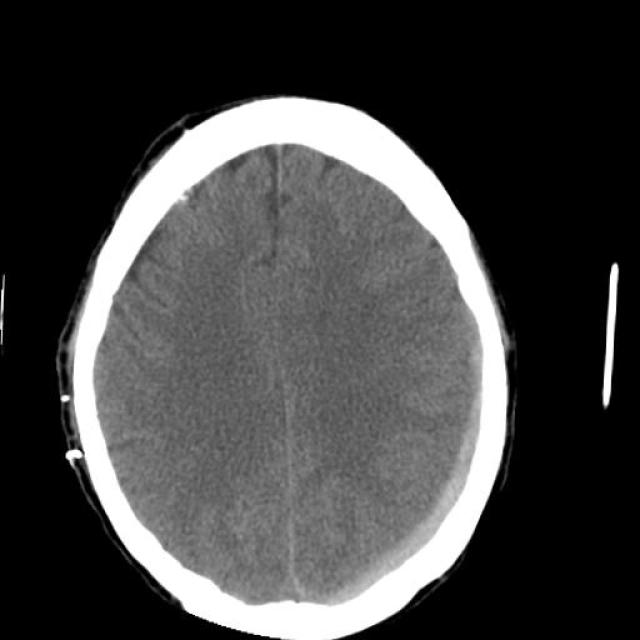Subdural: (328, 362, 526, 640)
